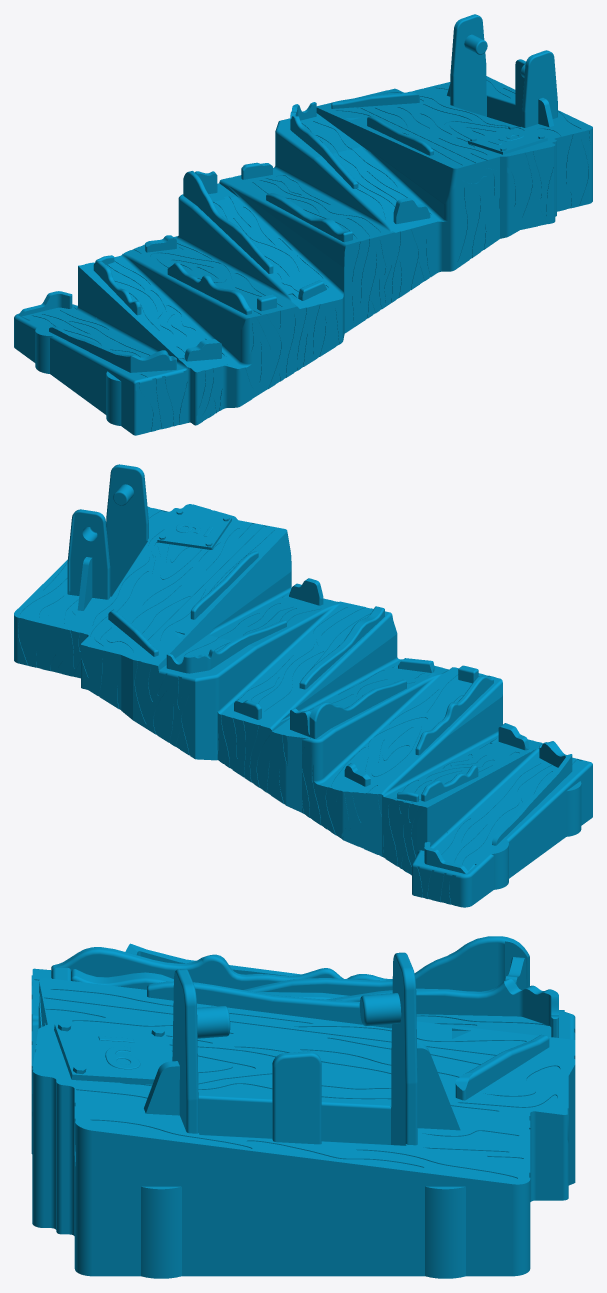
Rendered from PART 9 RAMP.fbx.
3 views of the same model, one above another, from view 1: azimuth 30°, elevation 25°; view 2: azimuth 150°, elevation 25°; view 3: azimuth 270°, elevation 25° (orthographic). The views are drawn at different scales.
Parts seen in each view (by area): view 1: PART 9 RAMP; view 2: PART 9 RAMP; view 3: PART 9 RAMP.
Part boxes in pixels (bbox=[...]): PART 9 RAMP: bbox=[14, 14, 592, 435]; PART 9 RAMP: bbox=[14, 464, 592, 907]; PART 9 RAMP: bbox=[31, 936, 575, 1278].
Size of the model in its own units: 13.89 by 7.31 by 6.99.
